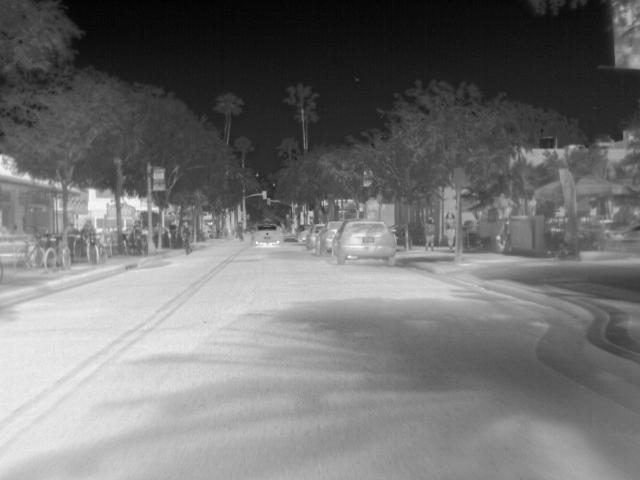car: (330, 220, 397, 264), (604, 221, 639, 258), (314, 219, 344, 257), (250, 222, 284, 247), (306, 223, 326, 249), (294, 223, 309, 243)
person: (442, 211, 457, 251), (422, 215, 435, 250), (497, 218, 509, 248), (179, 220, 194, 234), (237, 220, 243, 232)
